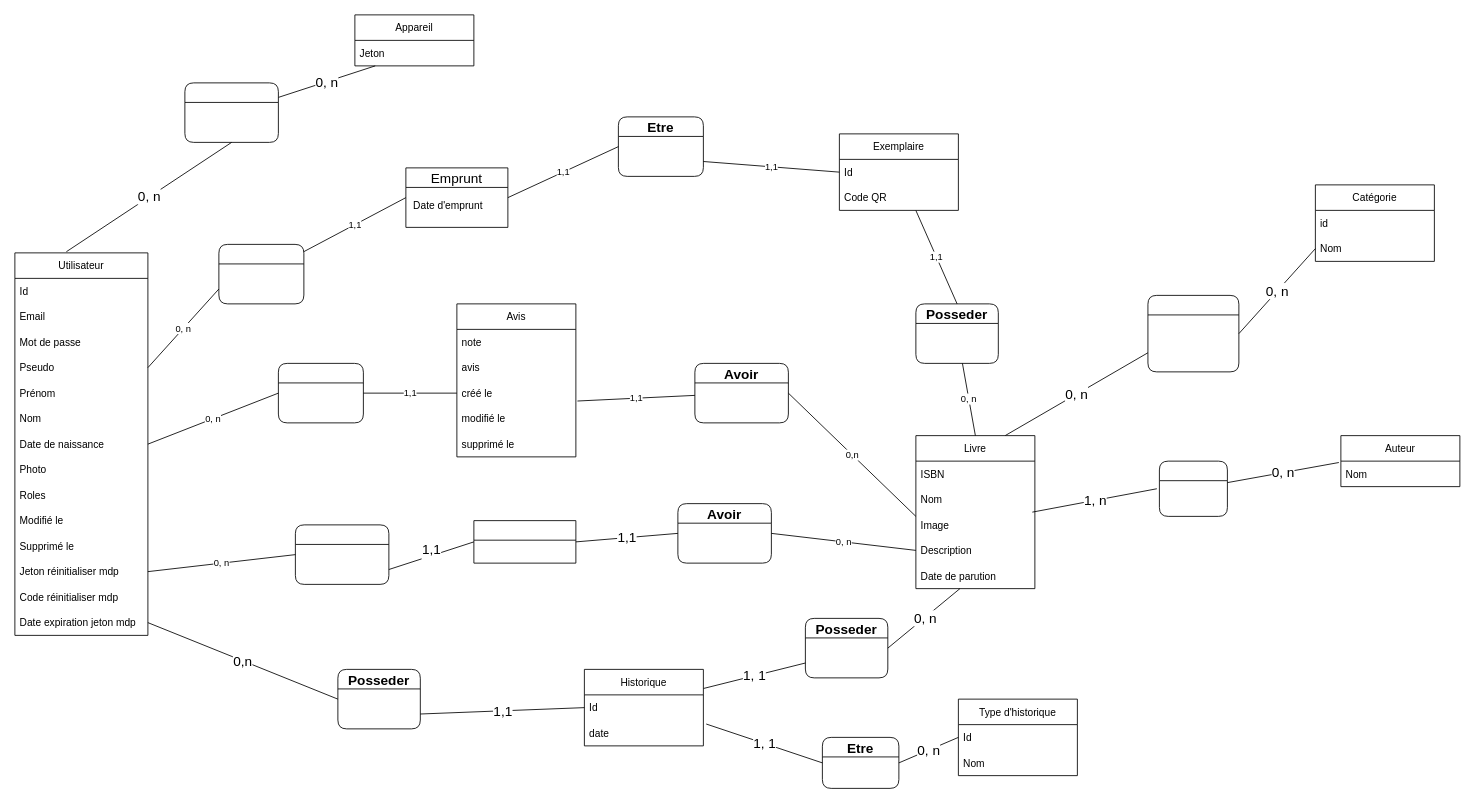
Some shapes in this 1475 by 803 pixel diagram are drawn without their labels. Each missing label, with the centre of its shape:
"Ajouter" goes at (x=342, y=554).
"Appartenir" goes at (x=1193, y=333).
"Donner" goes at (x=320, y=393).
"Ecrire" goes at (x=1193, y=488).
"Faire" goes at (x=261, y=274).
"Favoris" goes at (x=524, y=541).
"Notifier" goes at (x=231, y=112).
